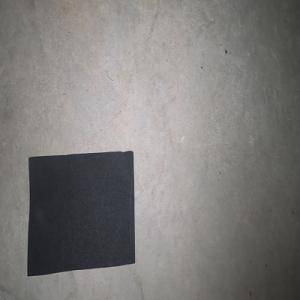PaintChip: (27, 150, 135, 276)
